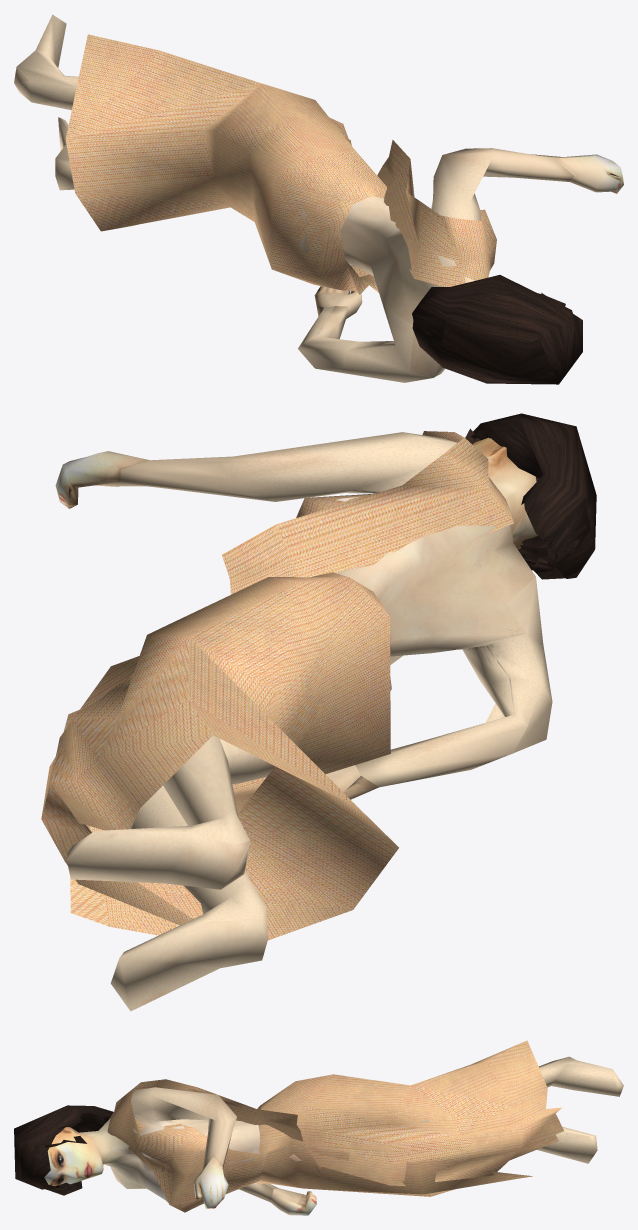
File: female_000113.obj
3 views of the same model, one above another, from view 1: azimuth 30°, elevation 25°; view 2: azimuth 150°, elevation 25°; view 3: azimuth 270°, elevation 25° (orthographic). The views are drawn at different scales.
Visible parts, largest first — view 1: saree_Cylinder, body.001_omino.012, hair.000_omino.000; view 2: saree_Cylinder, body.001_omino.012, hair.000_omino.000; view 3: saree_Cylinder, body.001_omino.012, hair.000_omino.000.
Part boxes in pixels (<box>): saree_Cylinder: <box>65,34,496,294</box>; body.001_omino.012: <box>14,14,623,382</box>; hair.000_omino.000: <box>412,275,582,384</box>; saree_Cylinder: <box>41,431,513,940</box>; body.001_omino.012: <box>55,432,552,1011</box>; hair.000_omino.000: <box>465,413,596,579</box>; saree_Cylinder: <box>107,1040,563,1212</box>; body.001_omino.012: <box>44,1056,623,1215</box>; hair.000_omino.000: <box>14,1105,113,1195</box>.
Size of the model in its own units: 1.45 by 0.6709 by 2.67.
